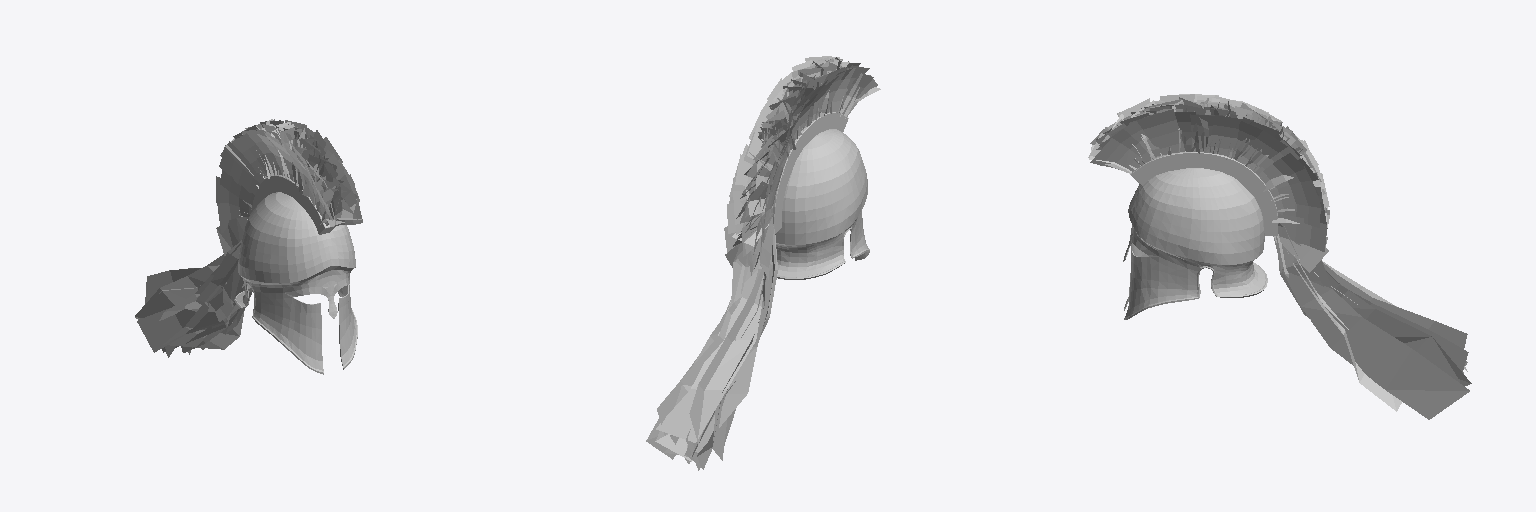
Rendered from Helmetblender.obj.
The picture shows the model from 3 angles: view 1: azimuth 30°, elevation 25°; view 2: azimuth 150°, elevation 25°; view 3: azimuth 270°, elevation 25°; orthographic projection.
Visible parts, largest first — view 1: Helmet; view 2: Helmet; view 3: Helmet.
Boxes of the visible parts, <box> form: Helmet: <box>135,119,362,374</box>; Helmet: <box>646,56,880,470</box>; Helmet: <box>1088,94,1471,419</box>.
Size of the model in its own units: 170 by 525 by 587.